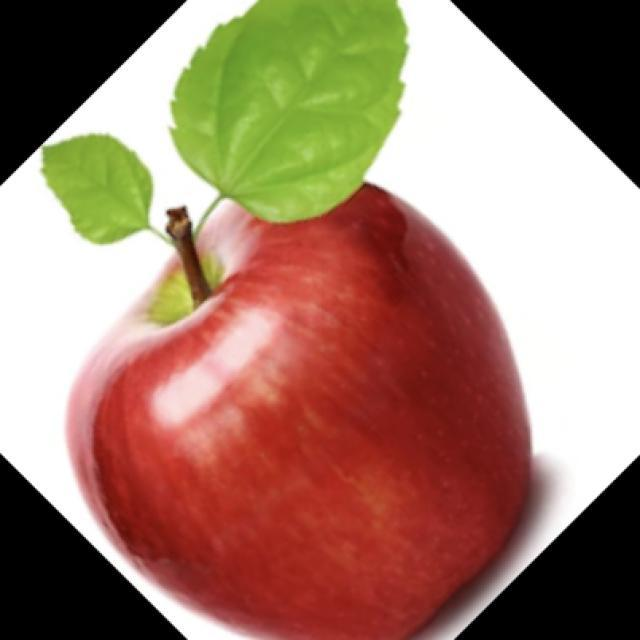Fresh Apple: (64, 154, 536, 640)
